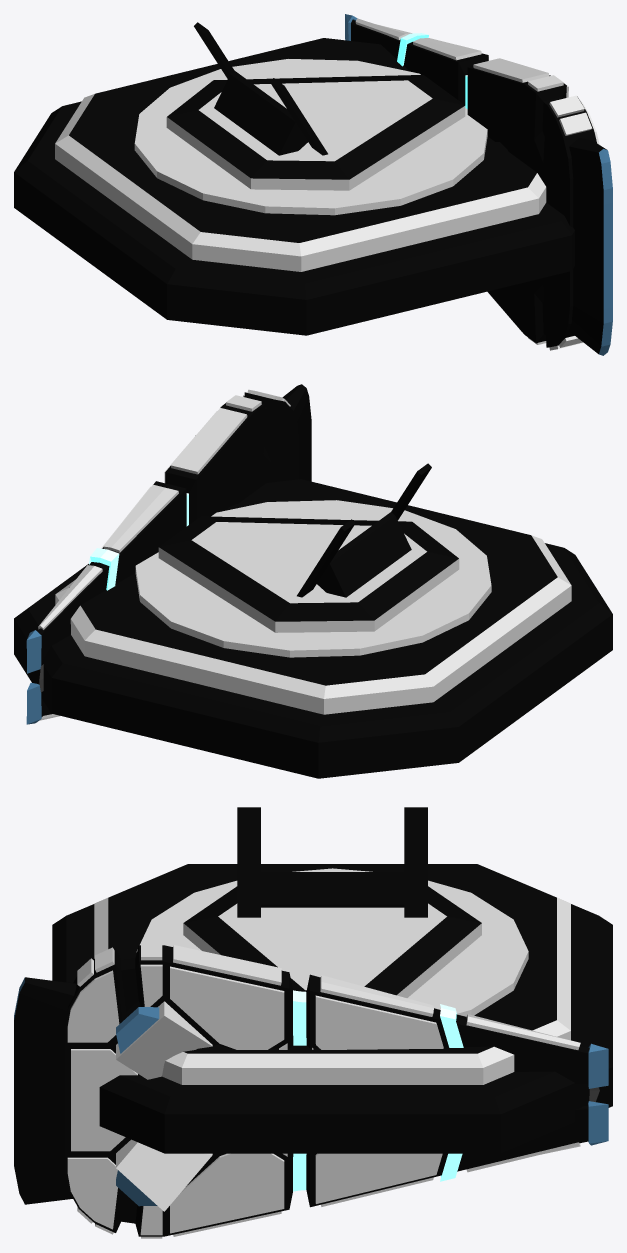
The model's file is Tower-5-Mesh.fbx.
The picture shows the model from 3 angles, top to bottom: view 1: azimuth 30°, elevation 25°; view 2: azimuth 150°, elevation 25°; view 3: azimuth 270°, elevation 25°; orthographic projection. The views are drawn at different scales.
Visible parts, largest first — view 1: T11-Base, T11-Rot, T11-Turret; view 2: T11-Base, T11-Rot, T11-Turret; view 3: T11-Turret, T11-Base, T11-Rot.
Part boxes in pixels (bbox=[...]): T11-Base: bbox=[14, 38, 574, 335]; T11-Rot: bbox=[134, 22, 487, 215]; T11-Turret: bbox=[345, 14, 612, 355]; T11-Base: bbox=[14, 479, 612, 778]; T11-Rot: bbox=[135, 463, 491, 657]; T11-Turret: bbox=[26, 384, 311, 724]; T11-Turret: bbox=[14, 943, 608, 1238]; T11-Base: bbox=[52, 864, 612, 1153]; T11-Rot: bbox=[136, 807, 528, 1016].
Bounding box in the file's own units: 2.14 × 1.2 × 2.
